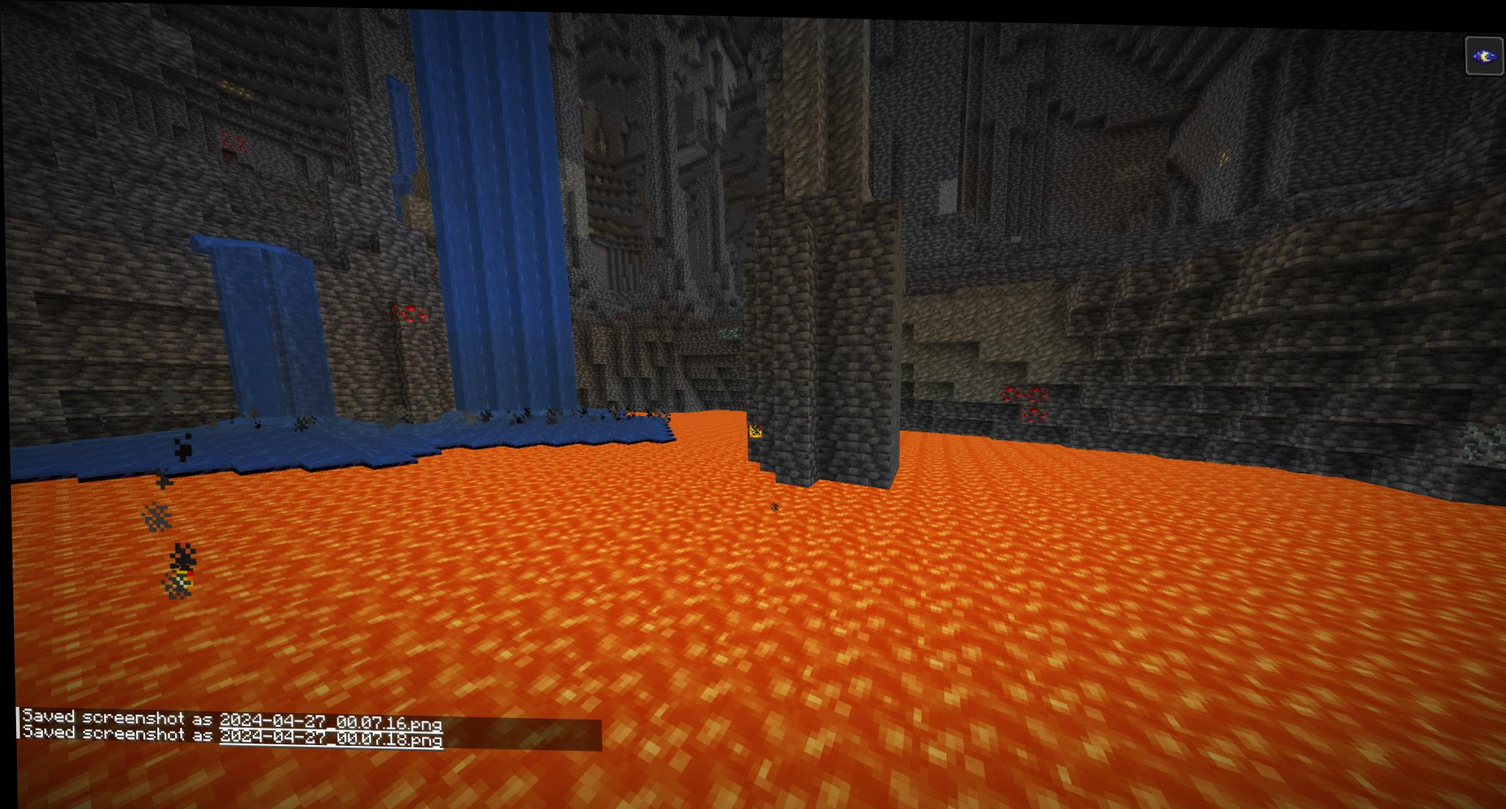diamond ore: (714, 322, 740, 341)
gold ore: (217, 75, 258, 106), (1213, 140, 1234, 166)
redstone ore: (998, 376, 1054, 421), (213, 125, 251, 159), (391, 301, 431, 325)
